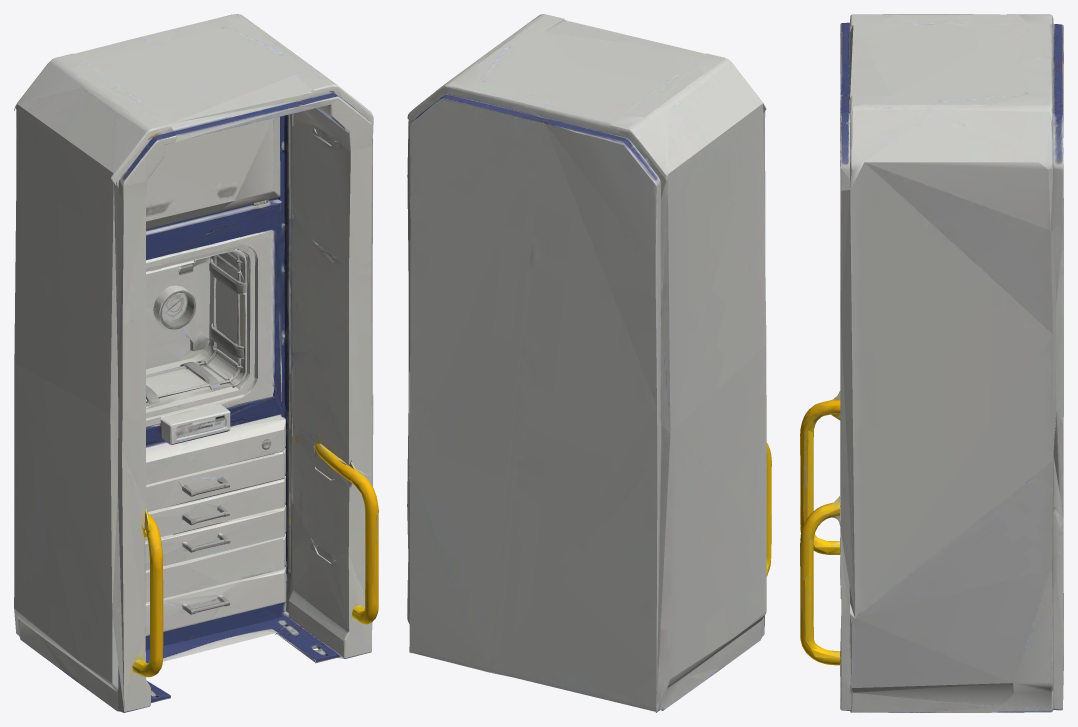
File: science-rack.gltf
3 renders of one model, left to right at view 1: azimuth 30°, elevation 25°; view 2: azimuth 150°, elevation 25°; view 3: azimuth 270°, elevation 25°, orthographic. The views are drawn at different scales.
Bounding box in the file's own units: 0.9125 × 1.9 × 0.771.
1 material, 1 textured.
